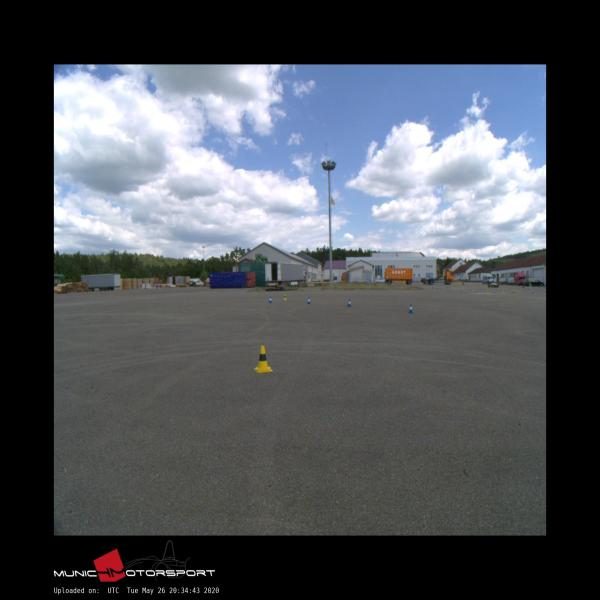blue_cone: (408, 304, 414, 313), (347, 299, 351, 307), (307, 296, 311, 304), (268, 296, 272, 304)
yellow_cone: (254, 345, 272, 371), (283, 294, 287, 300)
